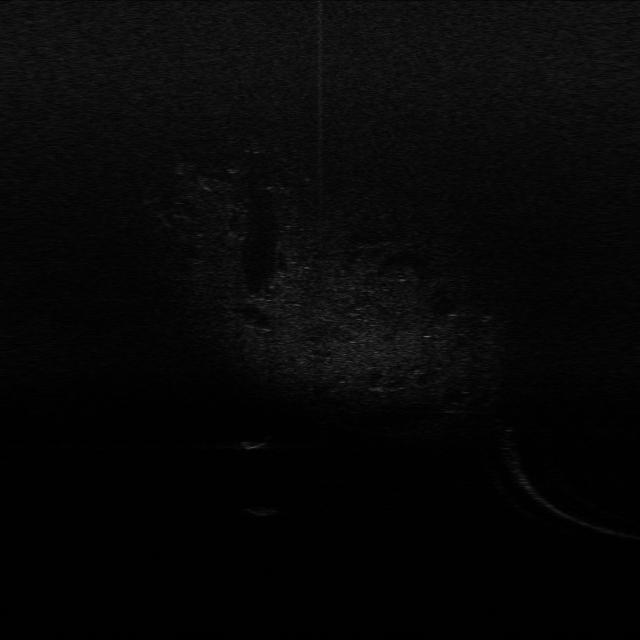cube: (248, 495, 288, 522)
square cage: (232, 430, 277, 454)
